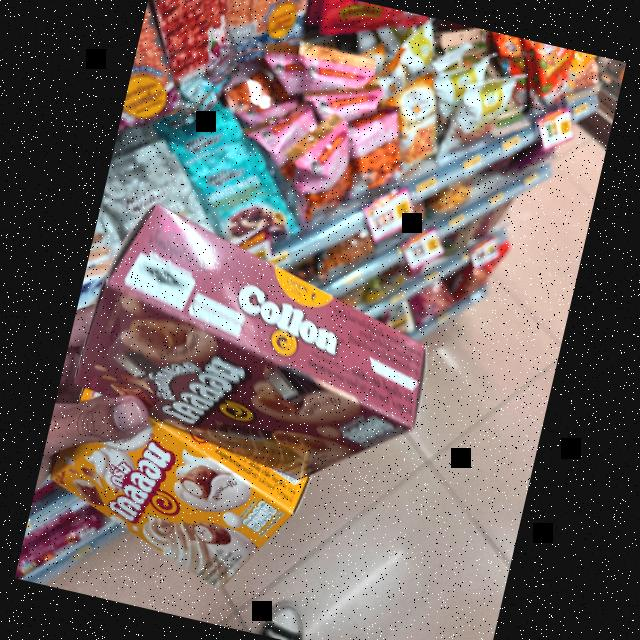cardboard_box: (69, 188, 458, 485), (36, 362, 333, 598)
